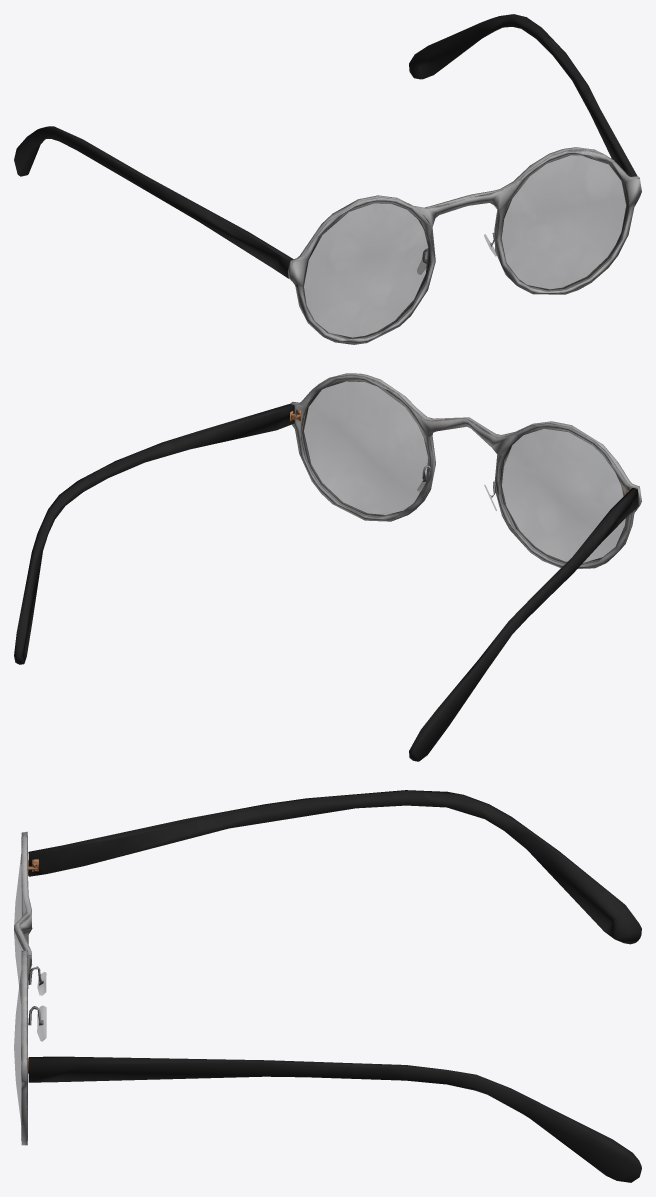
File: round_spectacles.glb
3 views of the same model, one above another, from view 1: azimuth 30°, elevation 25°; view 2: azimuth 150°, elevation 25°; view 3: azimuth 270°, elevation 25° (orthographic). The views are drawn at different scales.
Parts seen in each view (by area): view 1: round_spectacles; view 2: round_spectacles; view 3: round_spectacles.
Part boxes in pixels (x1,y1,x2,y2): round_spectacles: (14, 14, 641, 344); round_spectacles: (14, 373, 641, 761); round_spectacles: (14, 790, 641, 1182).
Size of the model in its own units: 0.1574 by 0.0463 by 0.1488.
2 materials, 2 textured.
